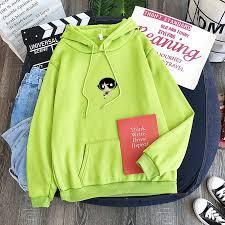sweater: (30, 23, 192, 202)
